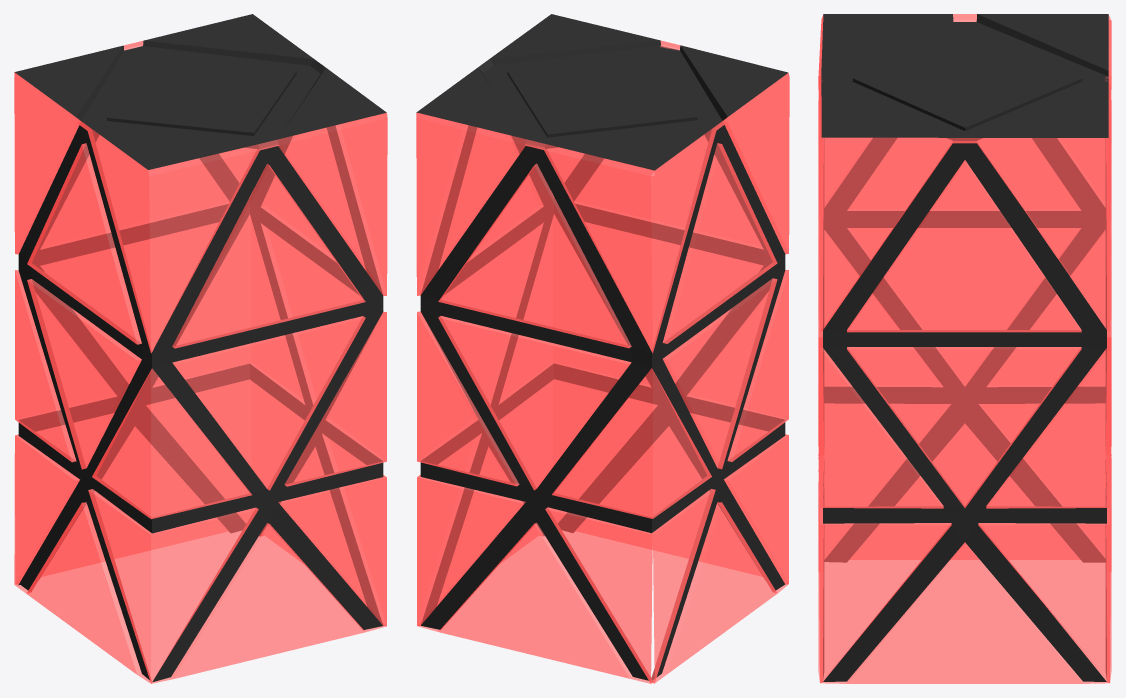
File: redGlassBuilding.fbx
3 views of the same model, side by side, from view 1: azimuth 30°, elevation 25°; view 2: azimuth 150°, elevation 25°; view 3: azimuth 270°, elevation 25° (orthographic). The views are drawn at different scales.
Visible parts, largest first — view 1: redGlassBuilding; view 2: redGlassBuilding; view 3: redGlassBuilding.
Boxes of the visible parts, bbox=[...] form: redGlassBuilding: bbox=[14, 14, 387, 683]; redGlassBuilding: bbox=[416, 14, 789, 683]; redGlassBuilding: bbox=[818, 14, 1111, 683].
Bounding box in the file's own units: 1553 × 3192 × 1552.
